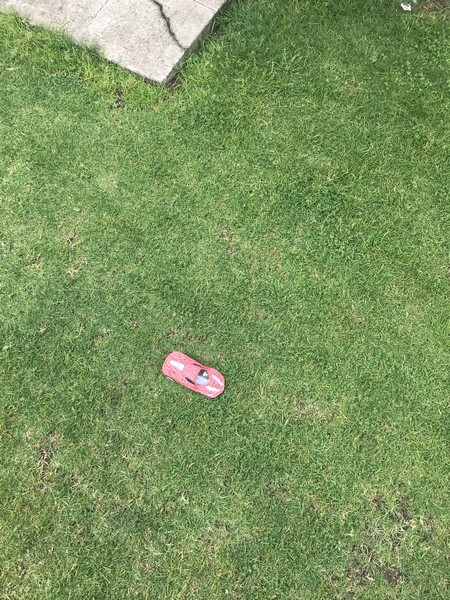RC: (160, 349, 226, 399)
